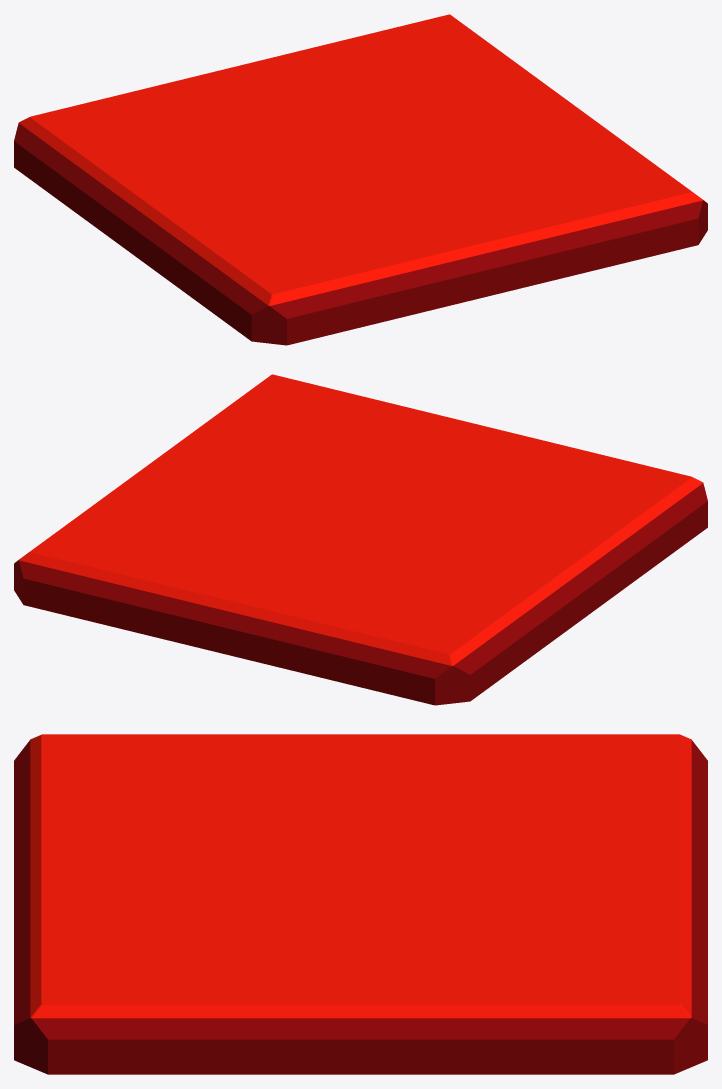
File: Coaster.fbx
3 renders of one model, top to bottom at view 1: azimuth 30°, elevation 25°; view 2: azimuth 150°, elevation 25°; view 3: azimuth 270°, elevation 25°, orthographic. The views are drawn at different scales.
Parts seen in each view (by area): view 1: Coaster; view 2: Coaster; view 3: Coaster.
Boxes of the visible parts, left/top/right/bottom form: Coaster: left=14, top=14, right=707, bottom=345; Coaster: left=14, top=374, right=707, bottom=705; Coaster: left=14, top=734, right=707, bottom=1074.
Size of the model in its own units: 73.22 by 6.82 by 73.22.
